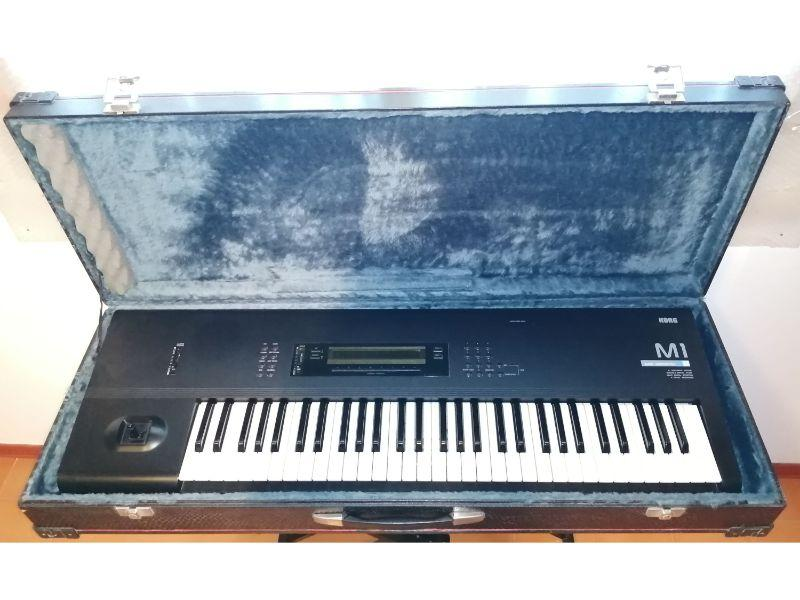synthesizer: (64, 286, 734, 494)
